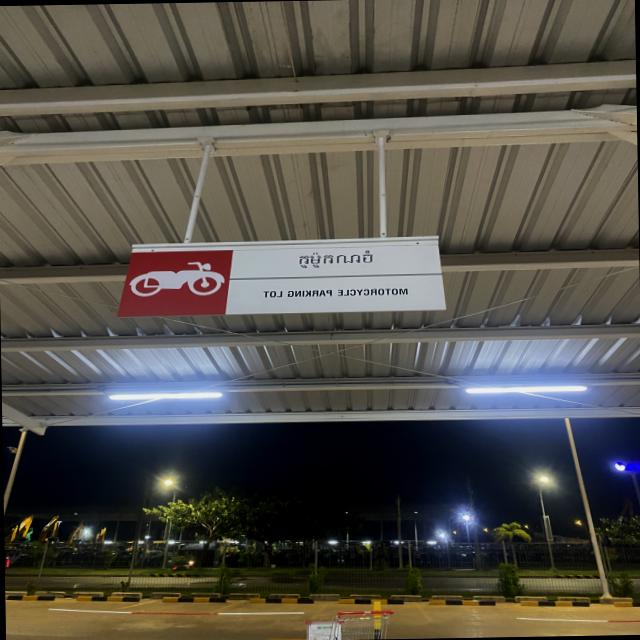Yolov11kh: (288, 248, 376, 269)
